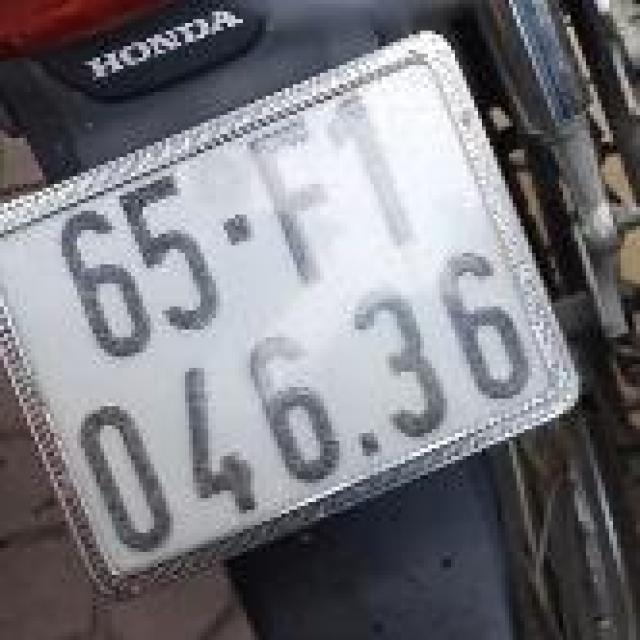0: (56, 380, 195, 575)
1: (311, 82, 448, 276)
3: (326, 265, 470, 462)
4: (149, 352, 283, 540)
5: (100, 161, 250, 356)
6: (224, 316, 369, 506), (37, 192, 175, 385), (417, 232, 547, 425)
F: (228, 109, 371, 301)
